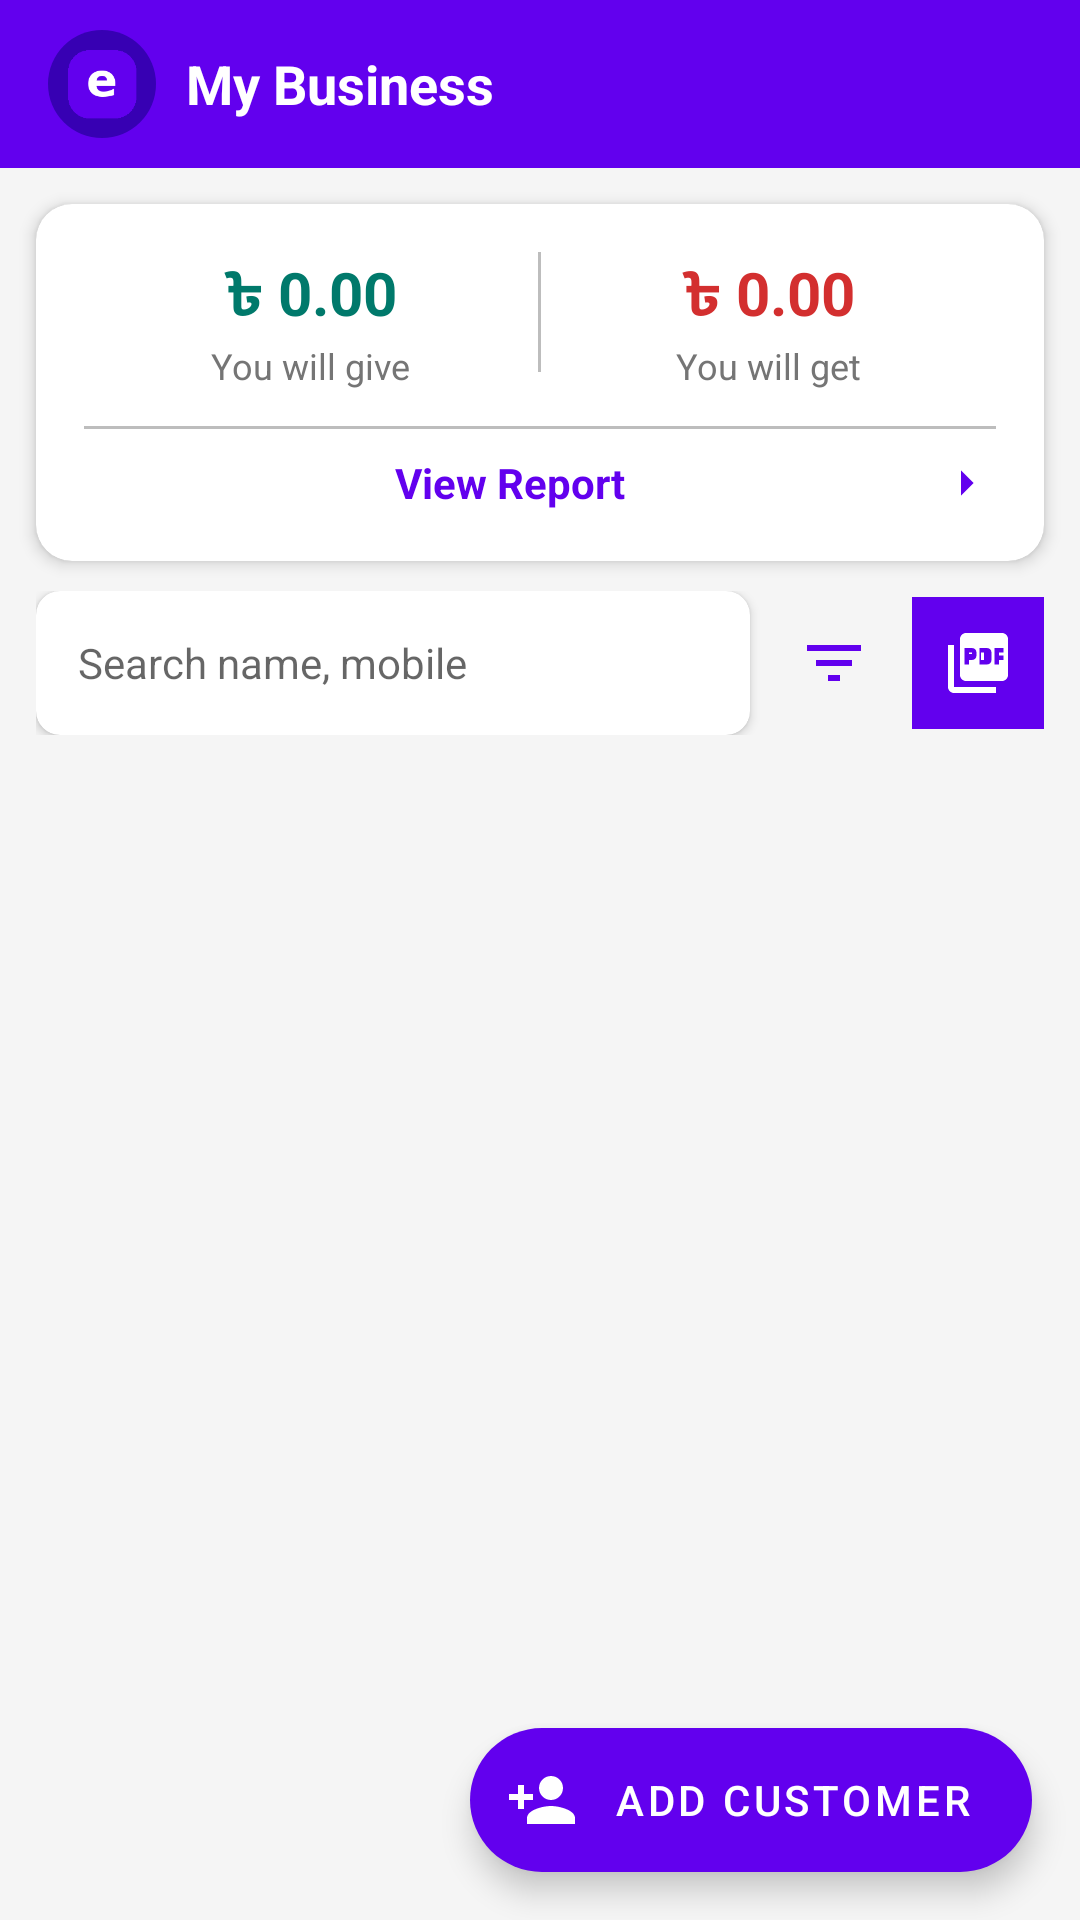

Icons on this 1080 × 1920 Android screen, each with its box as (x1, y1, x2, y2):
arrow right: (961, 470, 974, 496)
filter: (807, 645, 861, 681)
